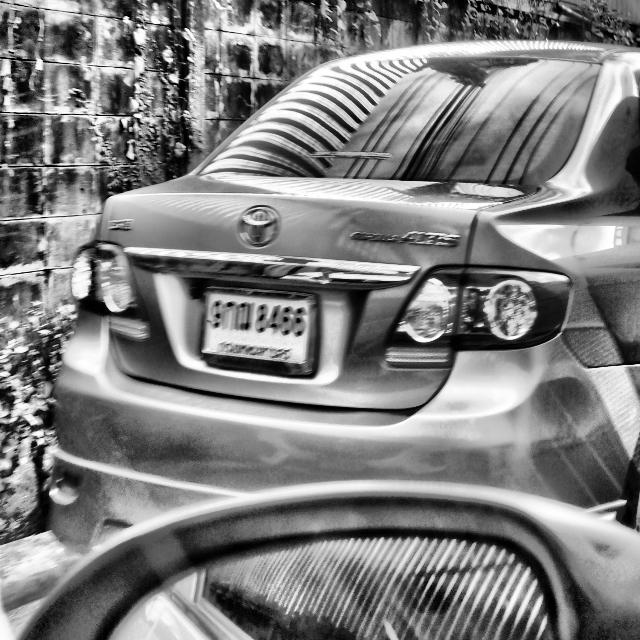license-plate: (199, 281, 320, 378)
